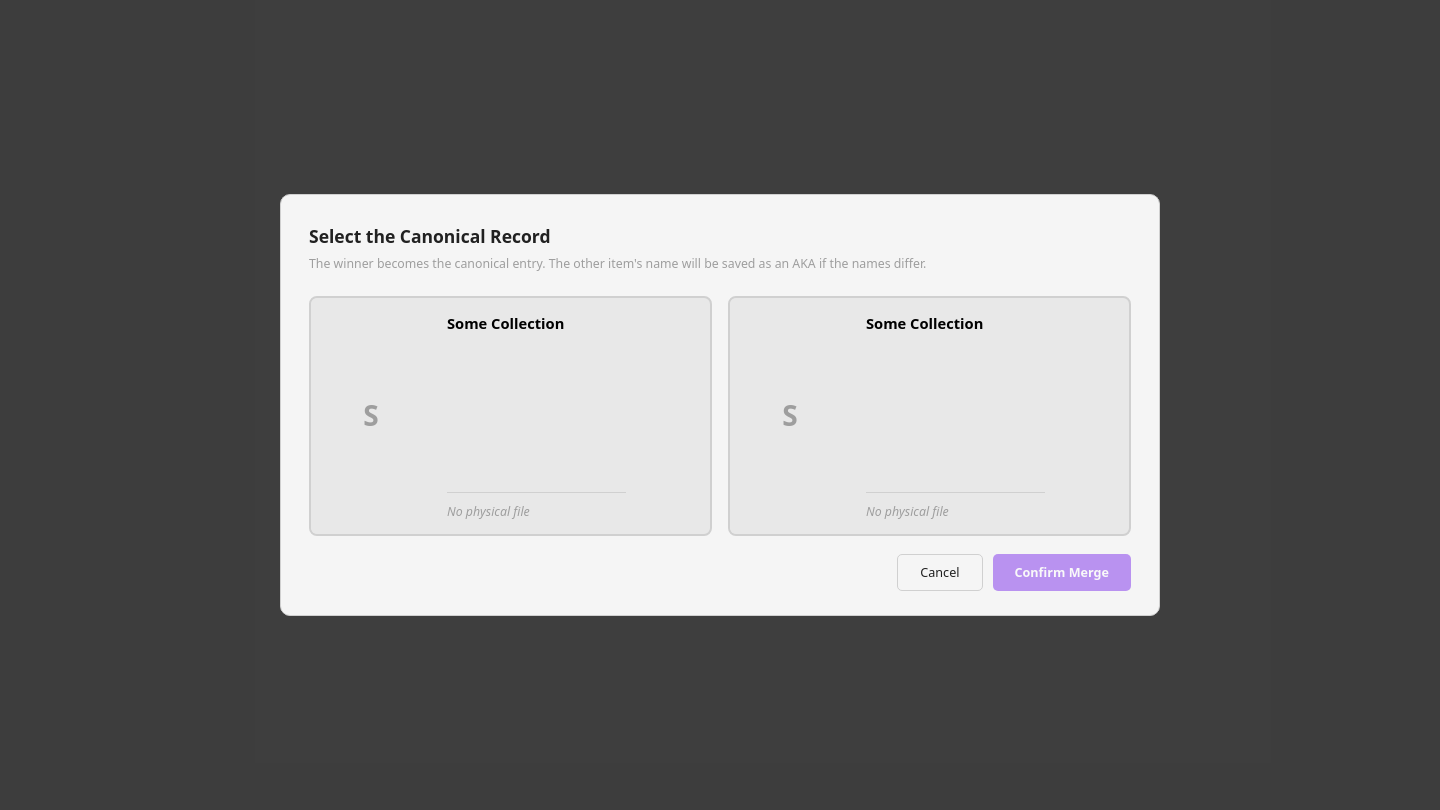
it: MergeModal › still says "Merge failed" when the error carries no message
Click the 1st button "S Some Collection No physical file" at (371, 416), box [309,296,712,536]
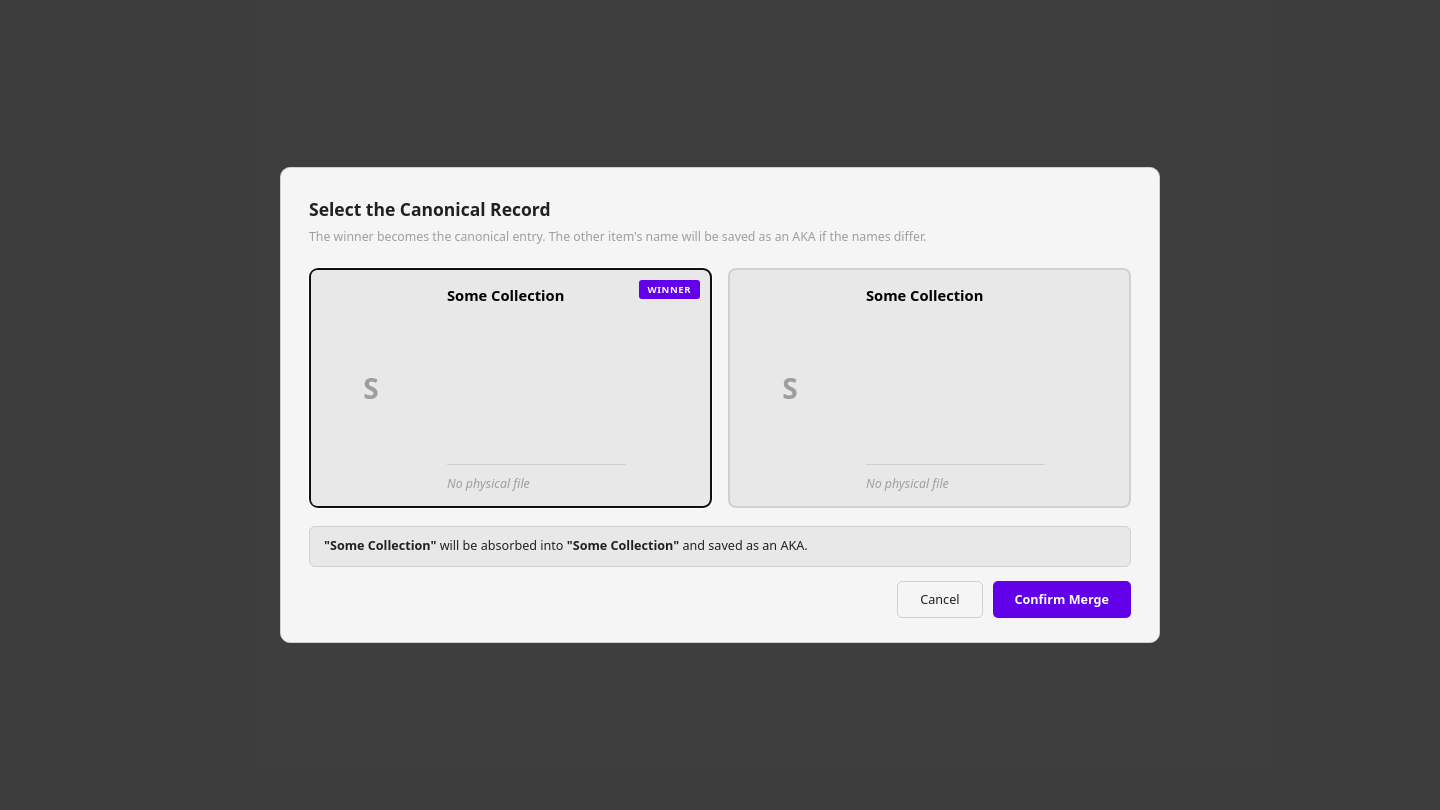
Click the button "Confirm Merge" at (1062, 600), box [992,581,1131,618]
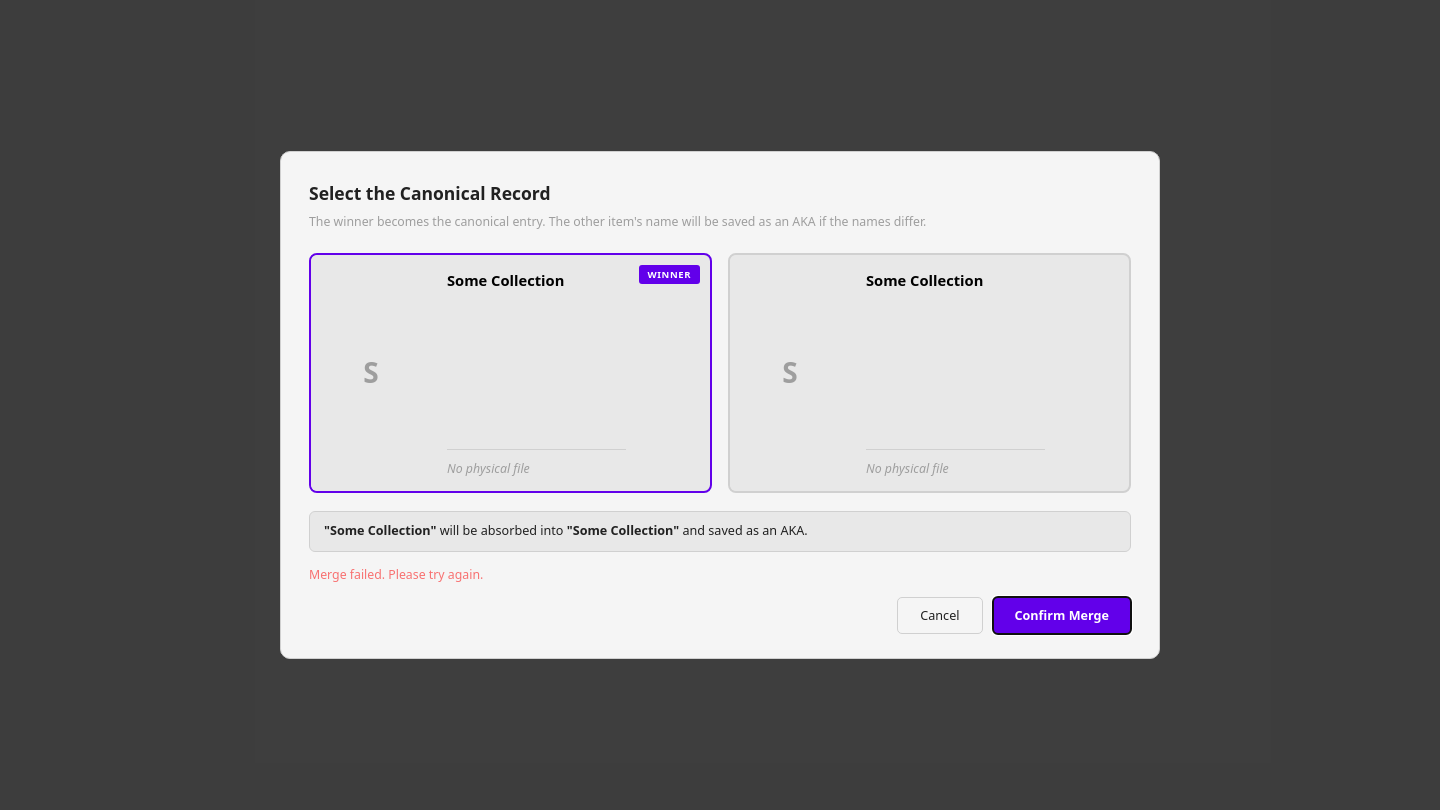
Expected: the text "Merge failed. Please try again." is shown, [309,566,483,583]
